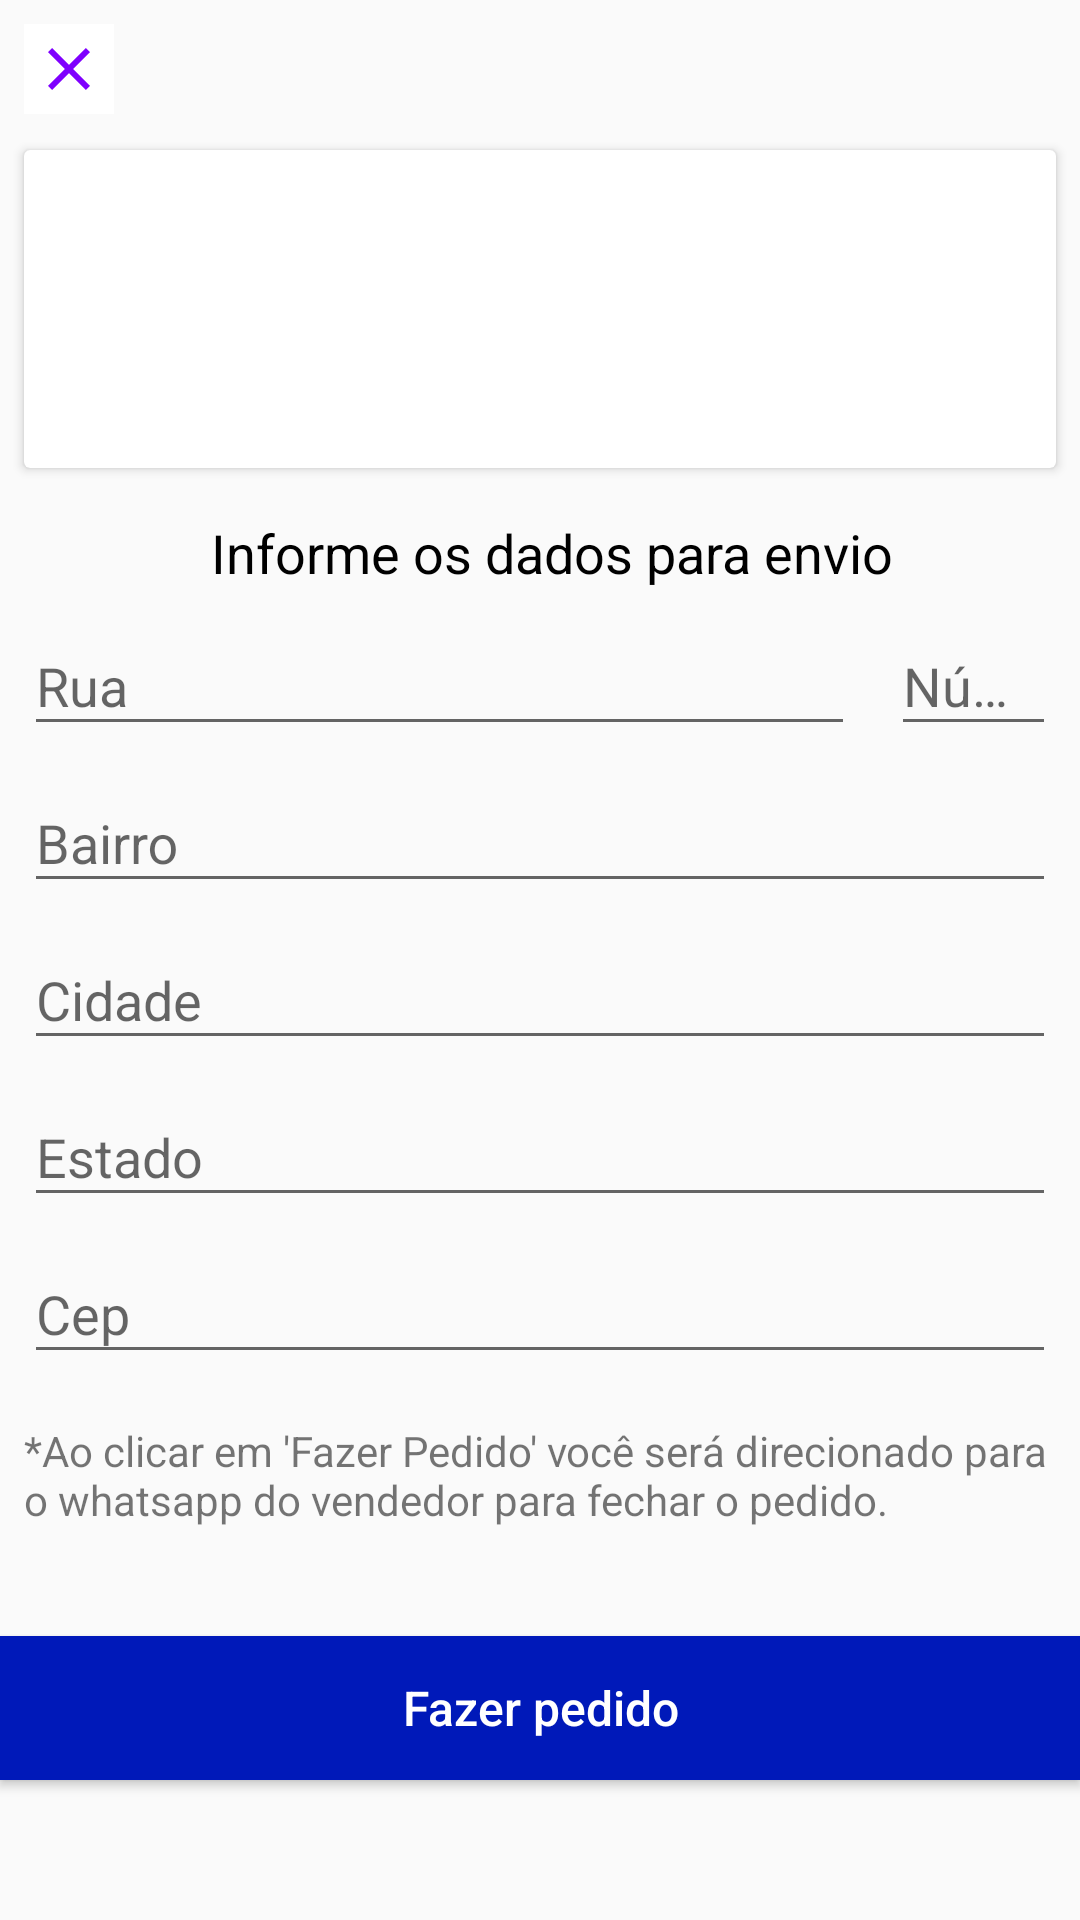

Point at icon controls on the screen. Image size 1080x1920, points as (x,y).
close: (69,69)
